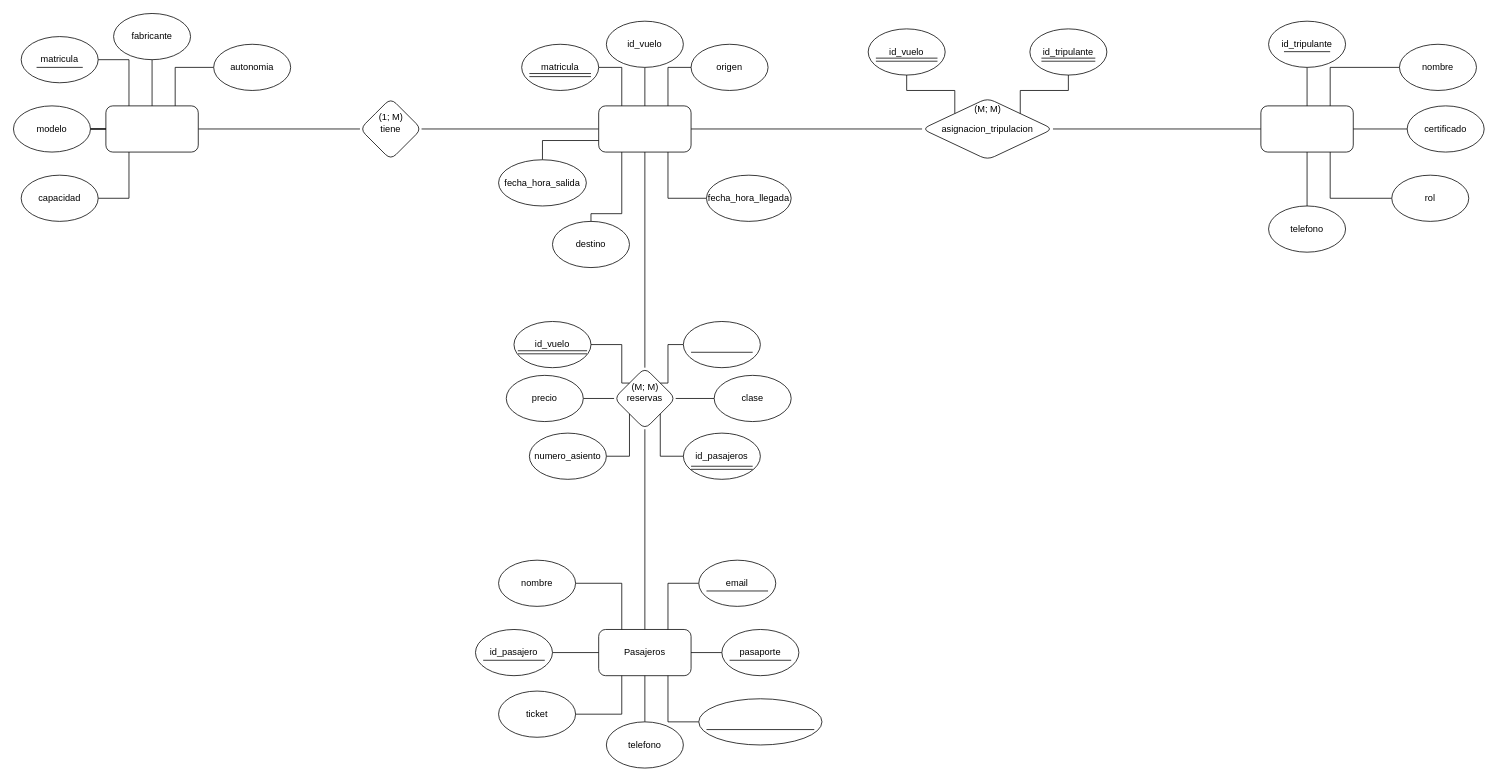
Image size: 1498x782. Some labels were removed from this diagram. Each missing label, with the centre of its shape:
Aviones: point (151, 128)
id_reserva: point (721, 344)
numero_viajero_frecuencia: point (760, 721)
tripulacion: point (1306, 128)
Vuelos: point (644, 128)
